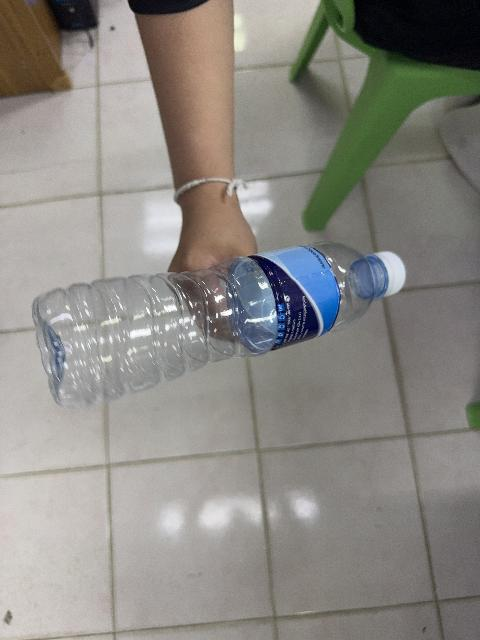bottle: (33, 243, 405, 407)
